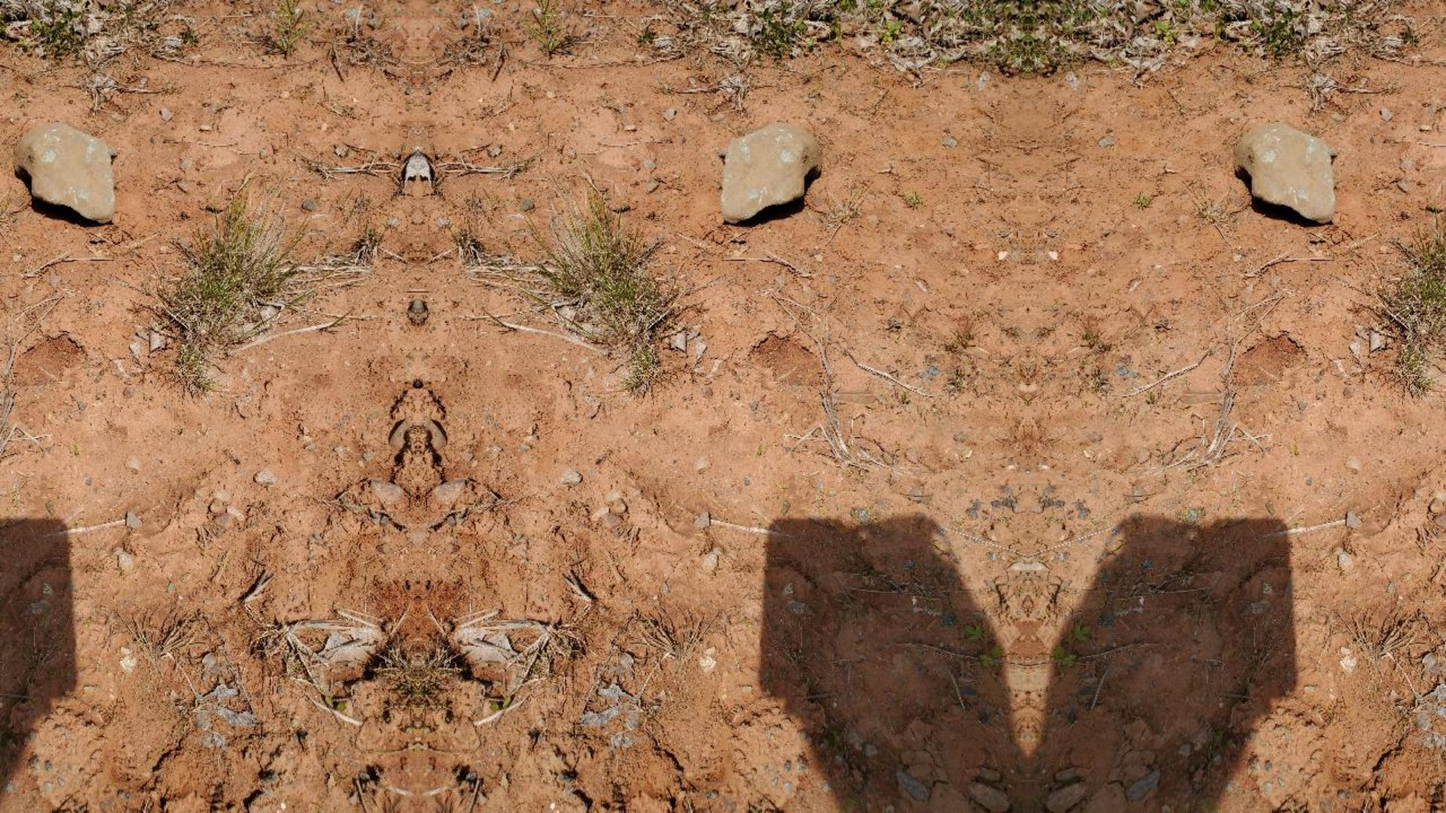rock: (720, 122, 820, 222), (14, 123, 115, 222), (1235, 123, 1335, 221)
